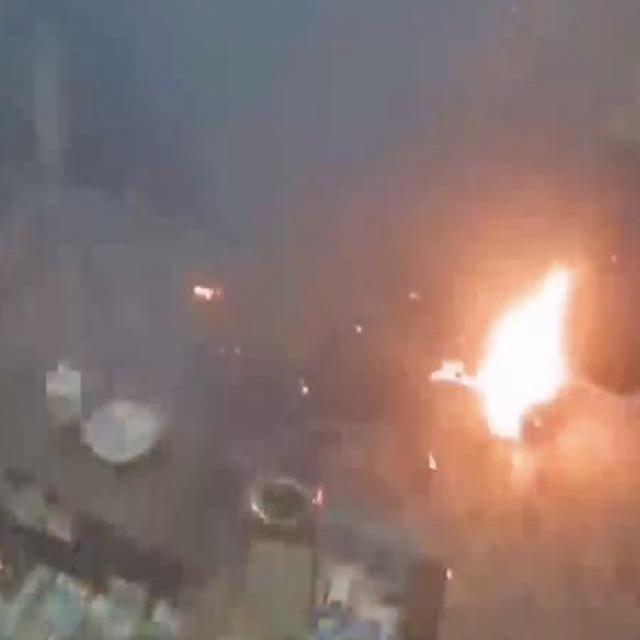smoke: (469, 241, 570, 452)
